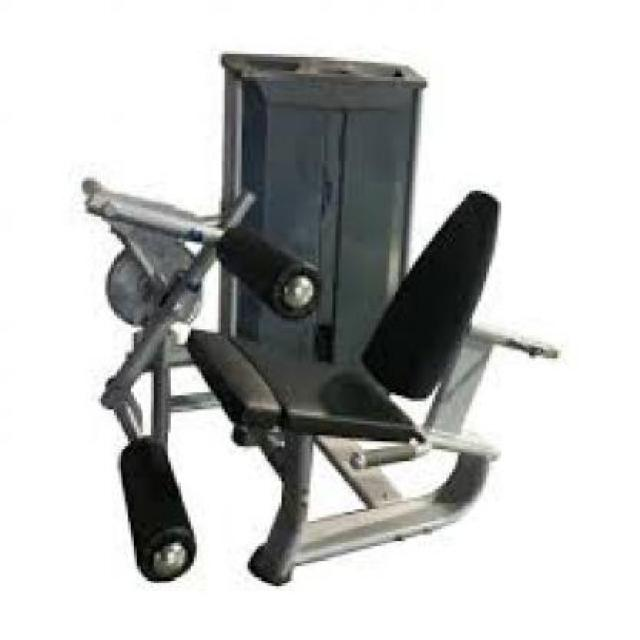leg extension: (63, 37, 559, 598)
